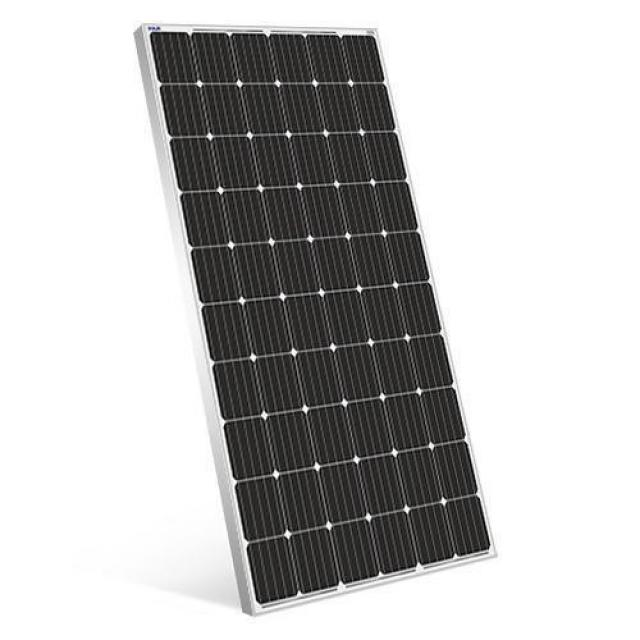no faulty: (152, 26, 496, 598)
